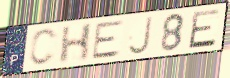8: (160, 12, 186, 53)
C: (27, 27, 60, 67)
E: (90, 18, 126, 62), (187, 7, 222, 50)
H: (57, 21, 95, 66)
J: (127, 15, 154, 57)
